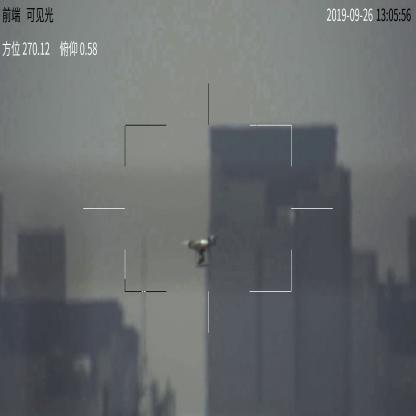uav: (183, 235, 225, 270)
